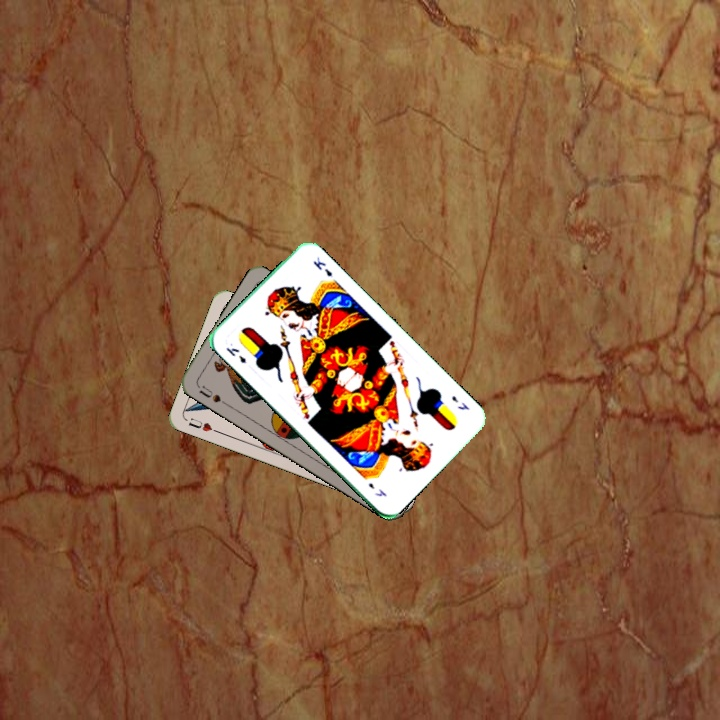EK: (222, 343, 248, 366), (448, 391, 472, 413)
HU: (184, 414, 222, 436)
SU: (194, 381, 230, 408)
